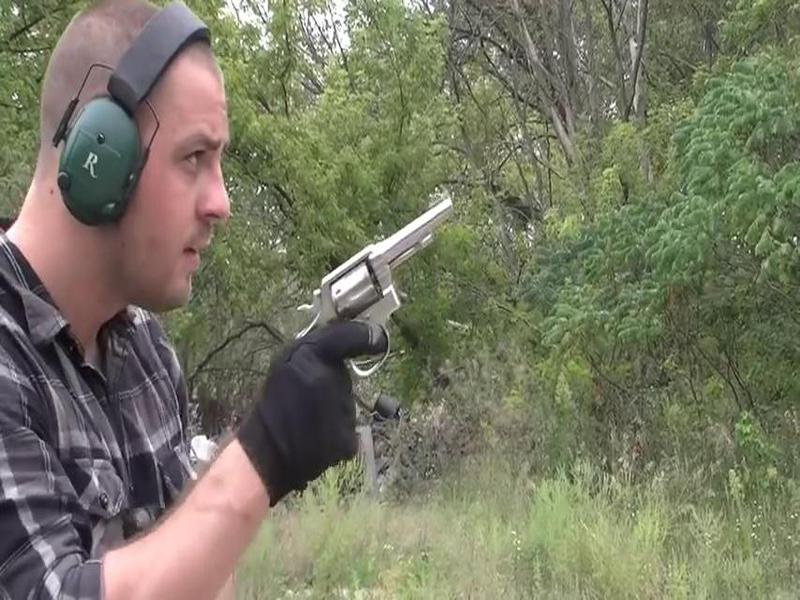Revolver: (294, 177, 470, 393)
